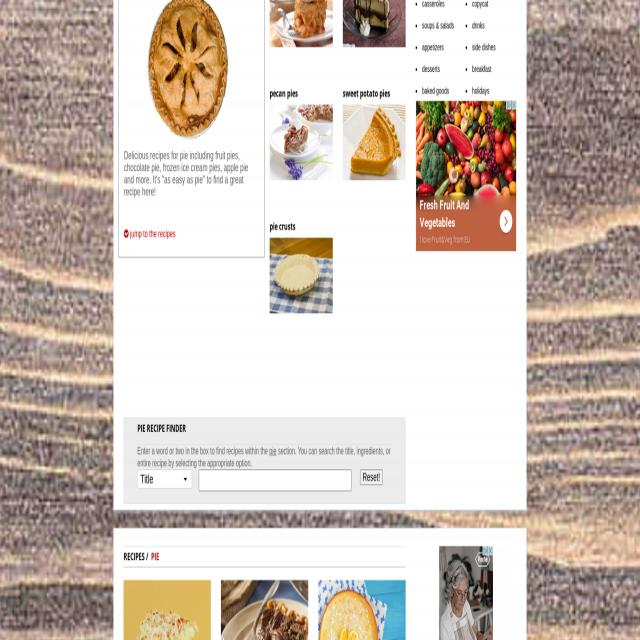button: (124, 0, 252, 143), (416, 101, 516, 251), (220, 578, 308, 640), (318, 579, 406, 640), (124, 580, 210, 640), (439, 545, 493, 640), (342, 105, 406, 180), (270, 105, 332, 180), (270, 238, 332, 313), (342, 0, 406, 47), (270, 0, 332, 47), (360, 469, 382, 485), (500, 210, 513, 234)
field: (198, 469, 352, 491), (138, 470, 191, 489)
